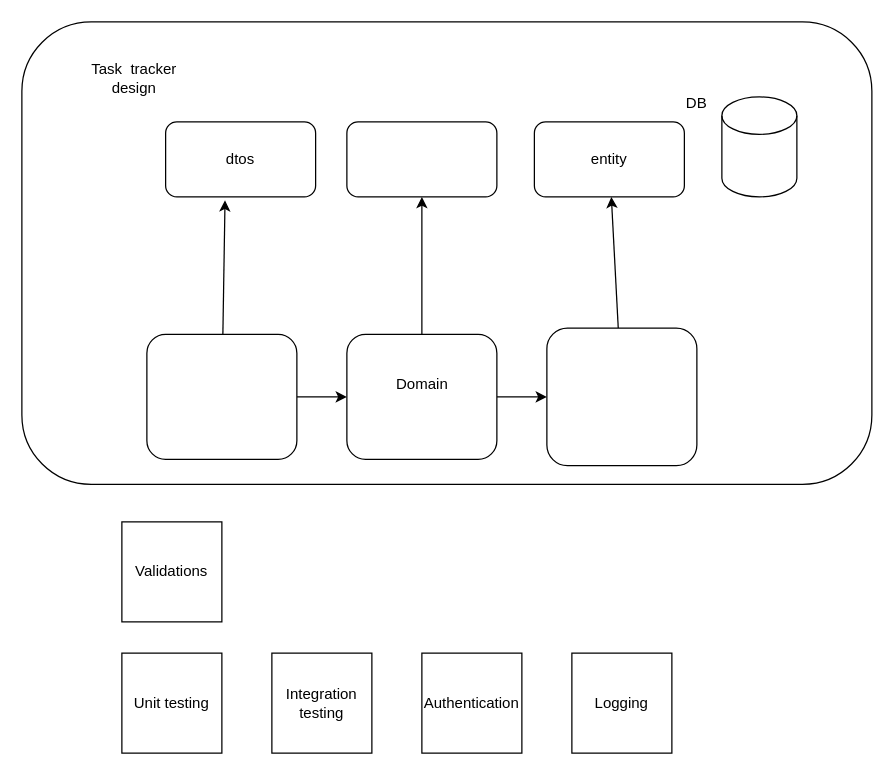
Some shapes in this 894 by 775 pixel diagram are drawn without their labels. Here are the shapes that lost their labels. From the top down, the centre of each, then its label:
At (421,159): "domain object".
At (759,146): "redis".
At (221,396): "controllers".
At (621,396): "Repositoy".
